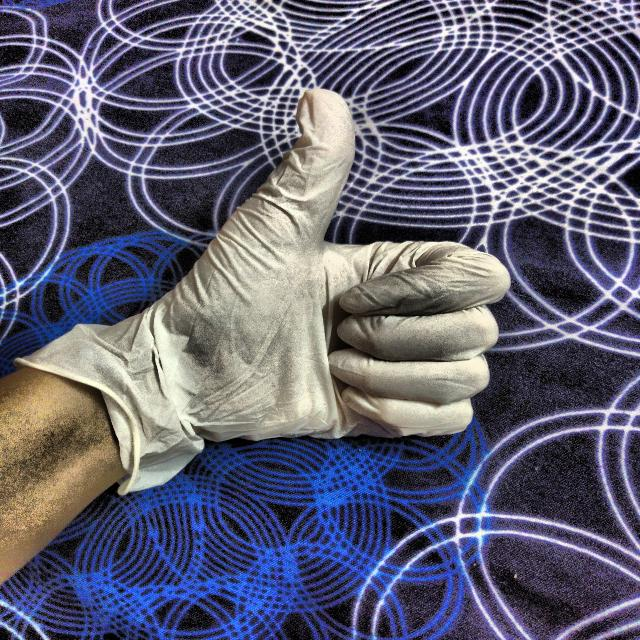gloved: (12, 81, 514, 510)
